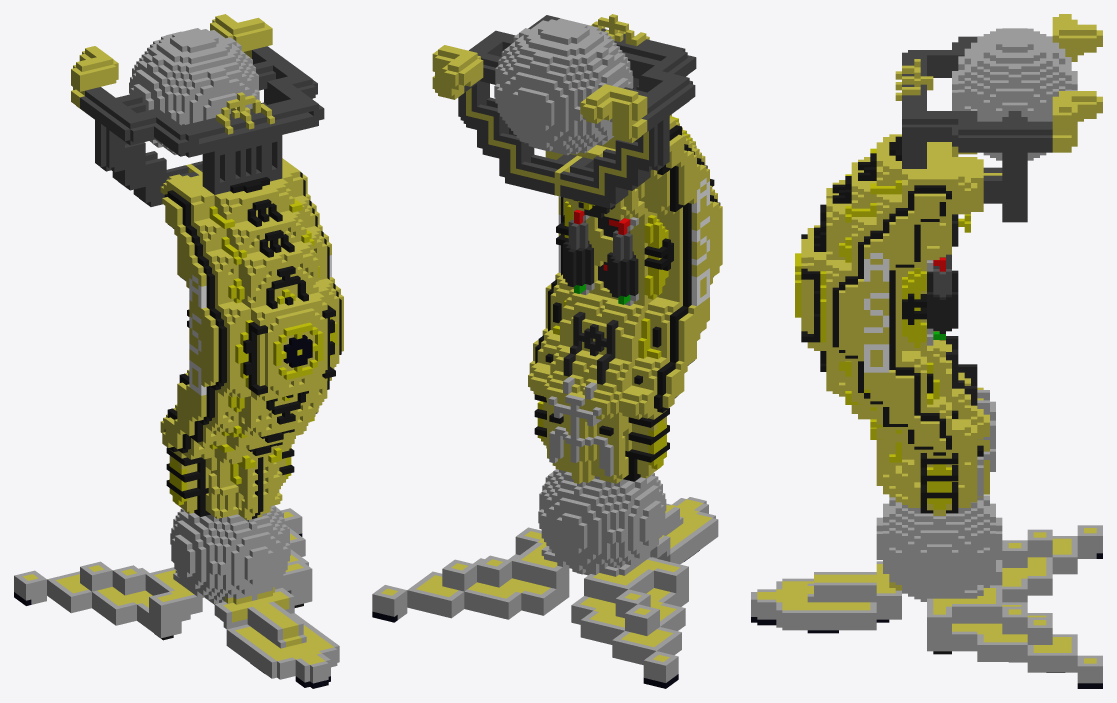
Rendered from OctopodeLeg.obj.
3 views of the same model, side by side, from view 1: azimuth 30°, elevation 25°; view 2: azimuth 150°, elevation 25°; view 3: azimuth 270°, elevation 25° (orthographic). The views are drawn at different scales.
Visible parts, largest first — view 1: OctopodeLeg; view 2: OctopodeLeg; view 3: OctopodeLeg.
Part boxes in pixels (x1,y1,x2,y2): OctopodeLeg: (14,14,343,688); OctopodeLeg: (372,14,722,688); OctopodeLeg: (751,14,1102,688).
Bounding box in the file's own units: 53 × 102 × 56.
Materials: 1 (1 with a texture image).
